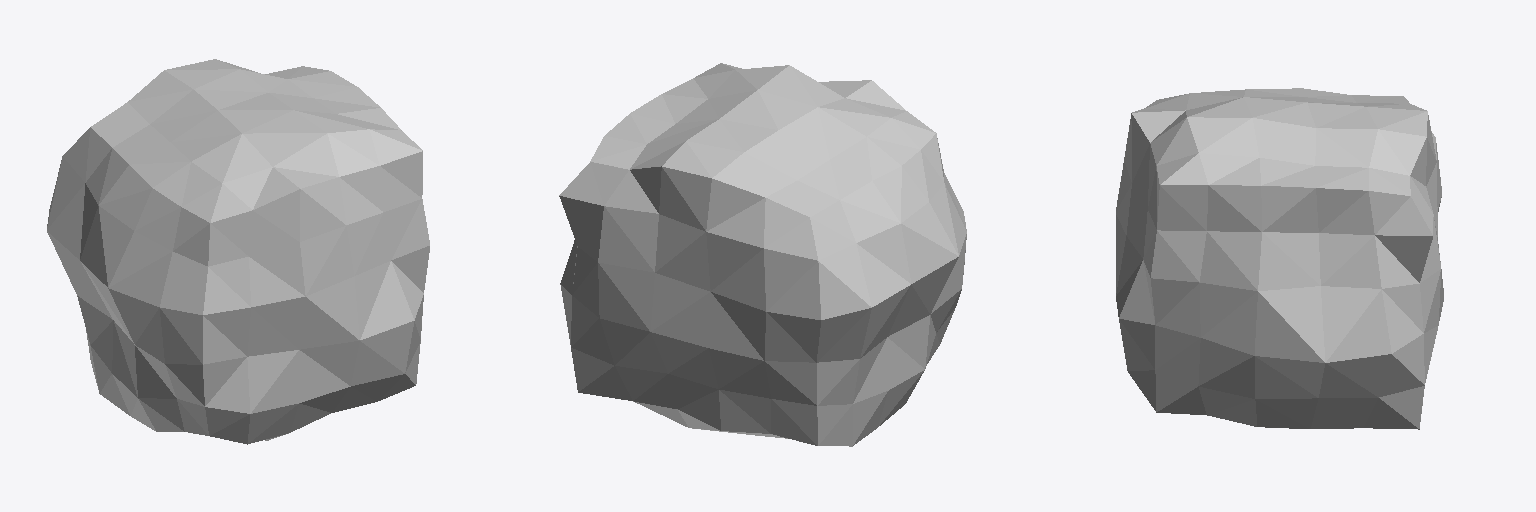
Rendered from rock2.obj.
3 renders of one model, left to right at view 1: azimuth 30°, elevation 25°; view 2: azimuth 150°, elevation 25°; view 3: azimuth 270°, elevation 25°, orthographic.
Parts seen in each view (by area): view 1: rock2; view 2: rock2; view 3: rock2.
Part boxes in pixels (x1,y1,x2,y2): rock2: (47,59,429,444); rock2: (559,63,966,446); rock2: (1116,88,1443,429).
Size of the model in its own units: 2.58 by 2.19 by 2.17.